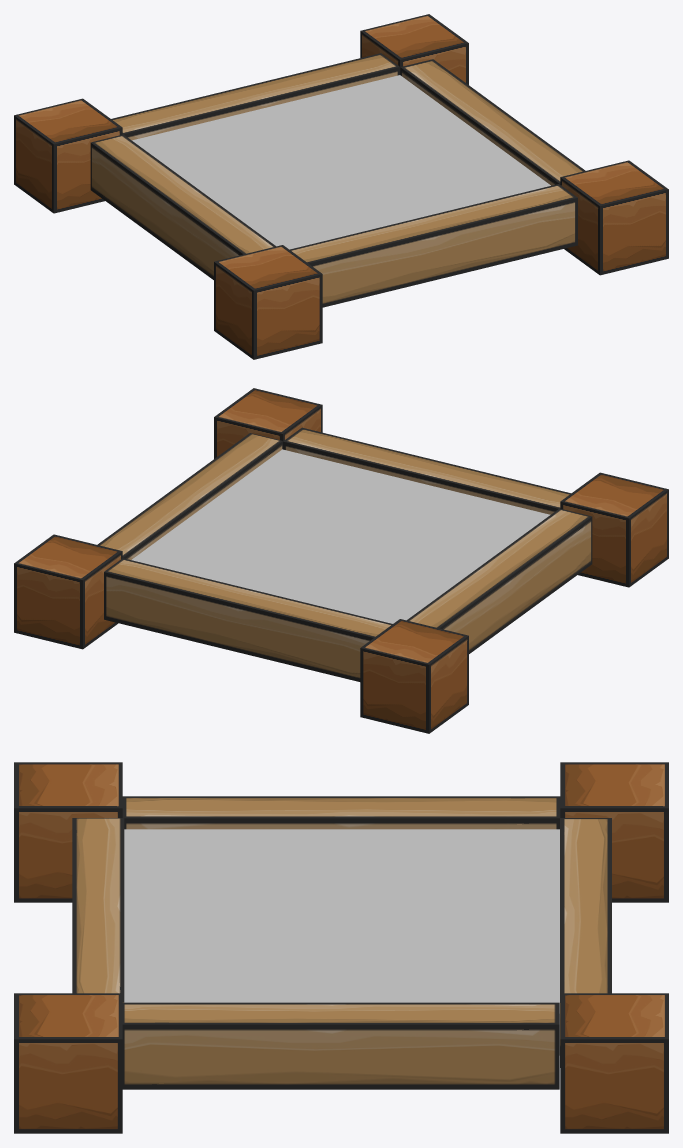
Rendered from Platform.fbx.
3 renders of one model, top to bottom at view 1: azimuth 30°, elevation 25°; view 2: azimuth 150°, elevation 25°; view 3: azimuth 270°, elevation 25°, orthographic. The views are drawn at different scales.
Visible parts, largest first — view 1: polySurface1; view 2: polySurface1; view 3: polySurface1.
Boxes of the visible parts, bbox=[...] form: polySurface1: bbox=[14, 14, 668, 359]; polySurface1: bbox=[14, 388, 668, 733]; polySurface1: bbox=[14, 762, 668, 1133].
Size of the model in its own units: 10.17 by 1.62 by 10.17.
